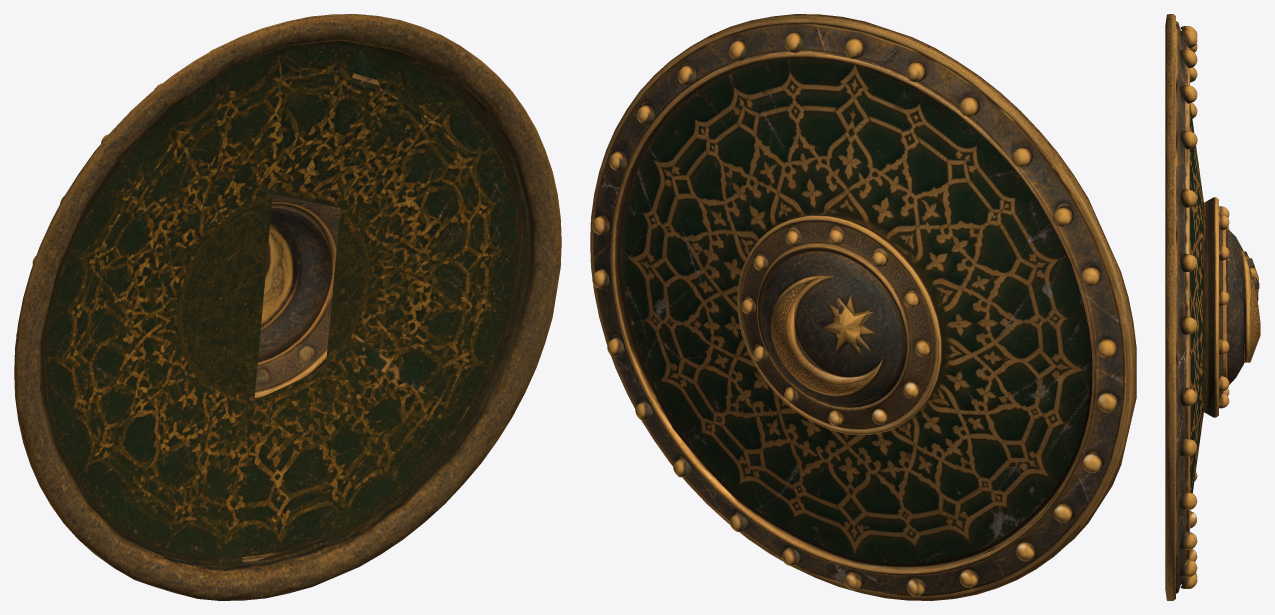
The model's file is Buwaka_Shield.fbx.
3 renders of one model, left to right at view 1: azimuth 30°, elevation 25°; view 2: azimuth 150°, elevation 25°; view 3: azimuth 270°, elevation 25°, orthographic. The views are drawn at different scales.
Parts seen in each view (by area): view 1: Buwaka_Shield; view 2: Buwaka_Shield; view 3: Buwaka_Shield.
Boxes of the visible parts, <box> form: Buwaka_Shield: <box>14,14,561,600</box>; Buwaka_Shield: <box>590,14,1136,600</box>; Buwaka_Shield: <box>1165,14,1260,600</box>.
Size of the model in its own units: 35 by 35 by 5.69.
